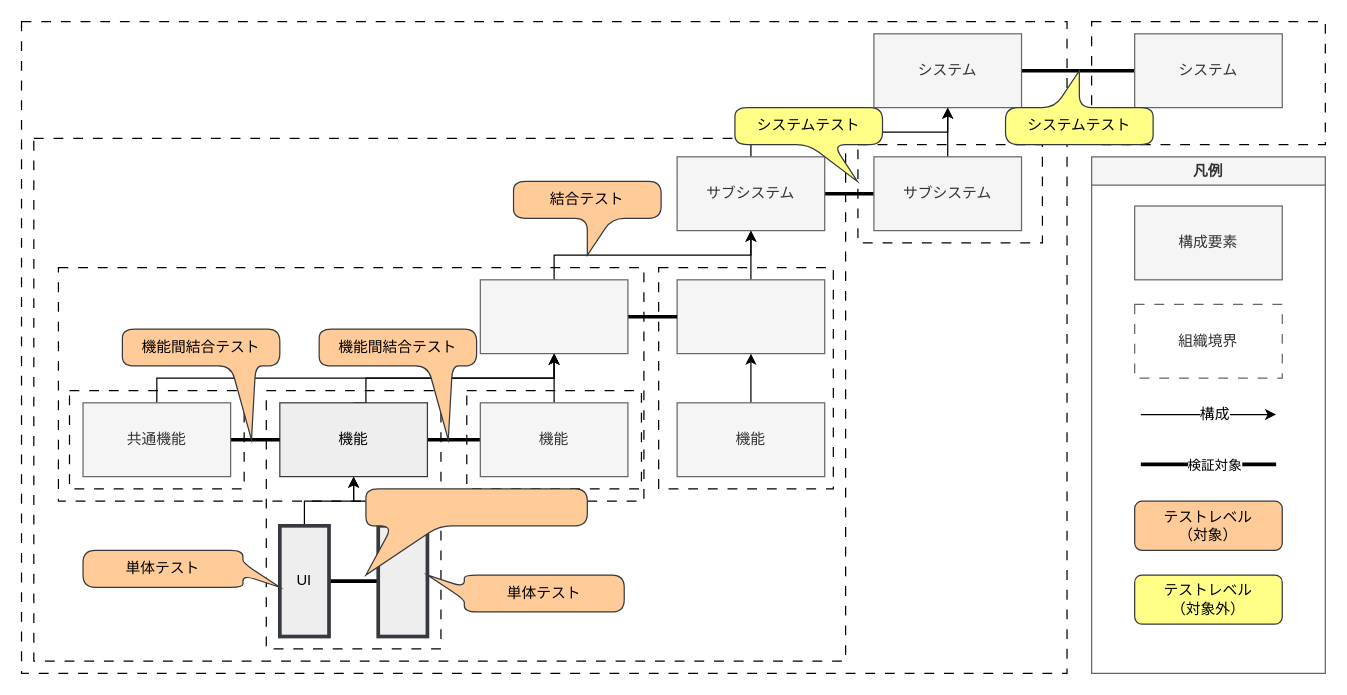
Image size: 1347x695. Some labels were removed from this diagram. Each missing label, with the centre of its shape:
"バックエンドアプリケーション" belongs at [750,316].
"フロントエンドアプリケーション" belongs at [553,316].
"ロジック" belongs at [402,580].
"機能内結合テスト" belongs at [476,531].
